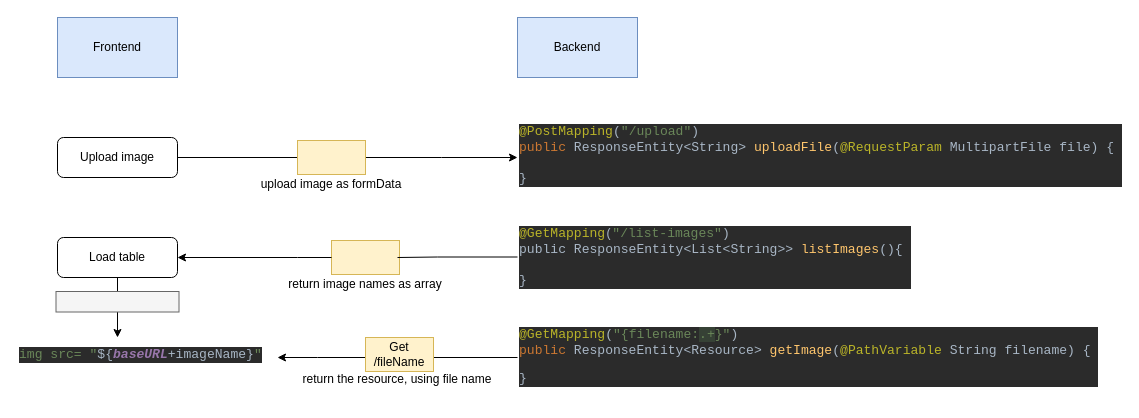
The diagram is 1139 pixels wide and 418 high, and some of its shapes have lost their labels. The shapes that lost their labels are listed below. From the top down, each one's centre as x and y in pixels, then its label:
At pixel 331 157: "Post /upload".
At pixel 365 257: "Get /list-images".
At pixel 117 301: "for each image name".
